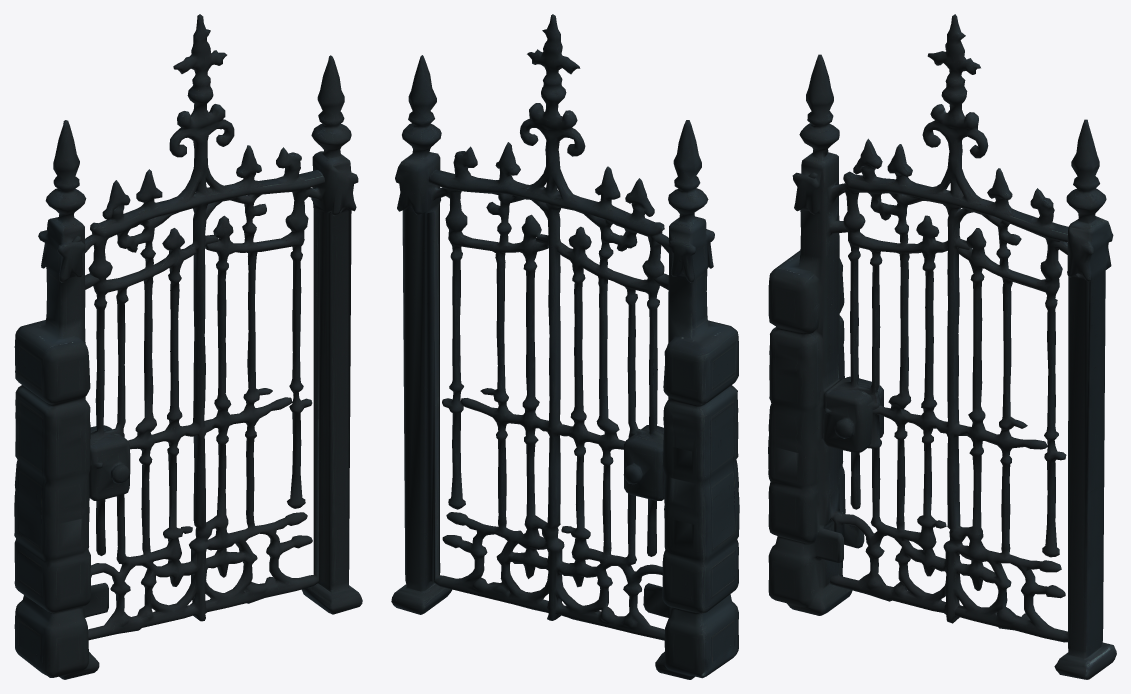
The model's file is estate_iron_gate.glb.
3 renders of one model, left to right at view 1: azimuth 30°, elevation 25°; view 2: azimuth 150°, elevation 25°; view 3: azimuth 330°, elevation 25°, orthographic.
Bounding box in the file's own units: 1.03 × 1.91 × 0.2153.
1 material, 1 textured.
